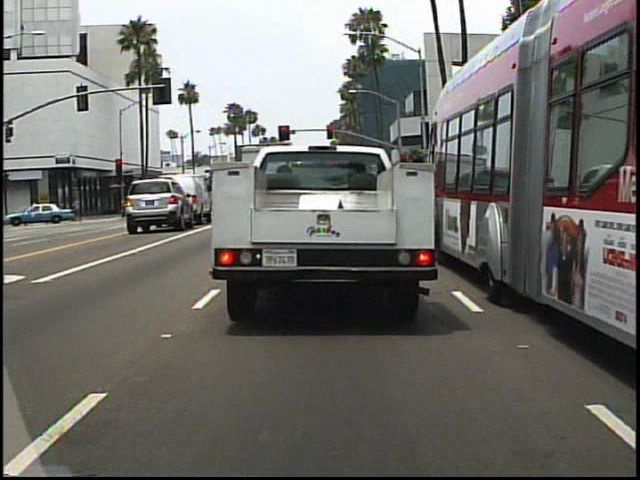person: (40, 194, 59, 226)
